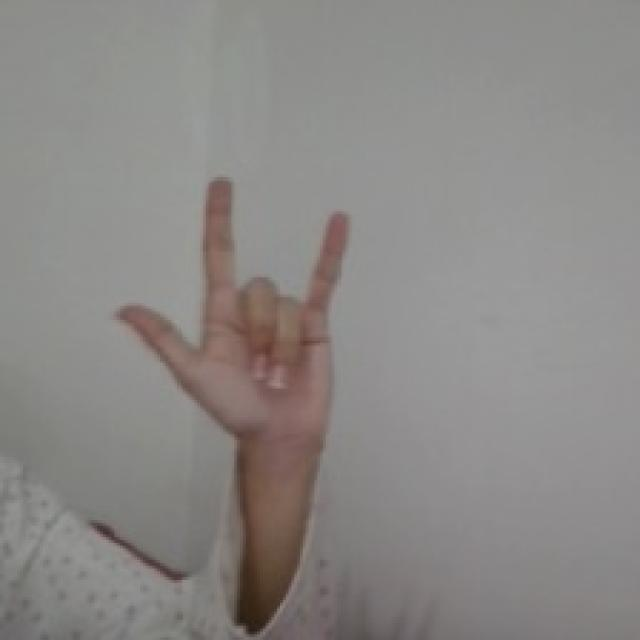love: (110, 167, 359, 448)
